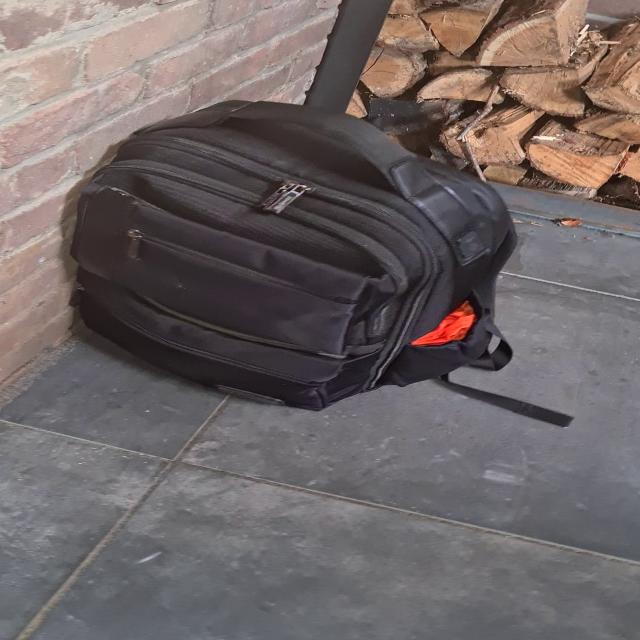backpack: (45, 86, 537, 416)
